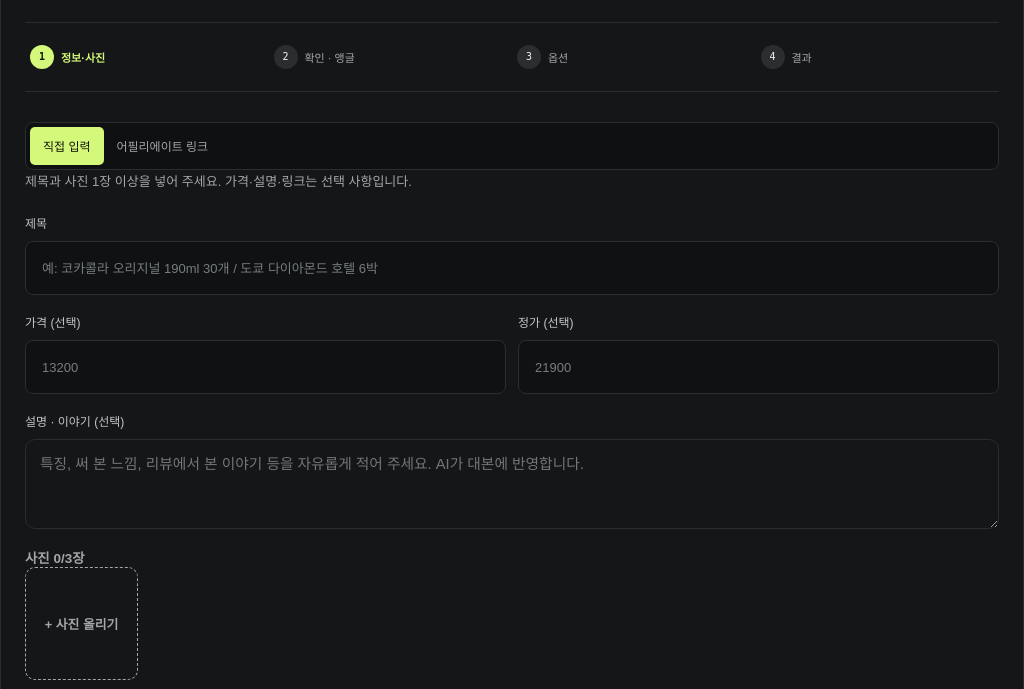
Test: AffiliateInput manual mode › asks for a title and a picture before saving
The width and height of the screenshot is (1024, 689).
Type "사진 없는 글" into the field labelled "제목". click: [512, 268]
box: [25,241,999,295]
(page scrolled)
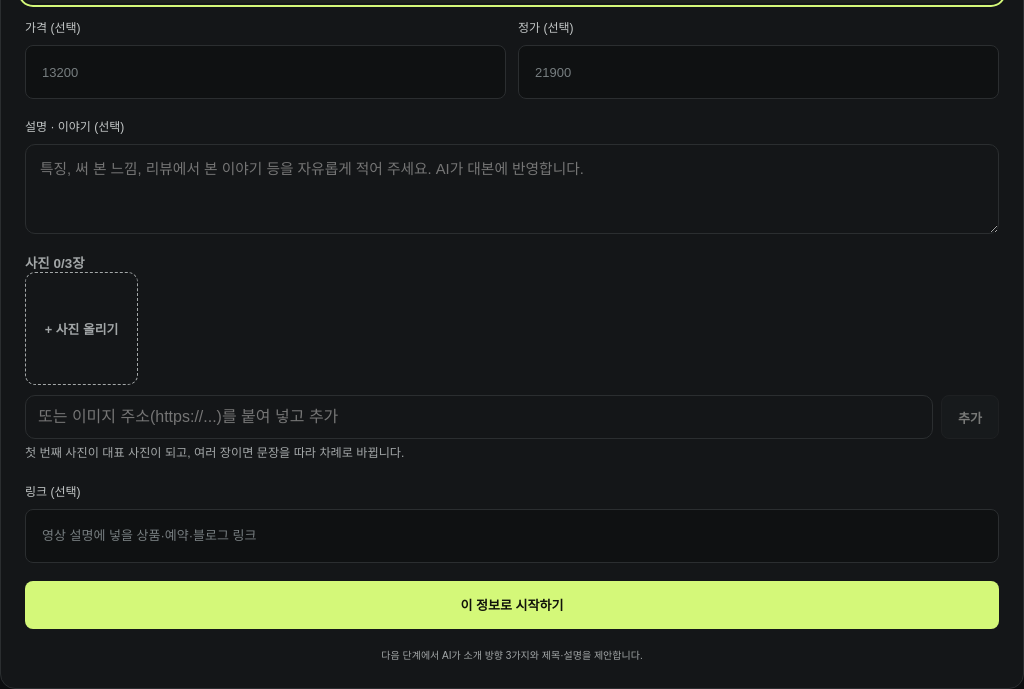
Click the button "이 정보로 시작하기". click: [512, 605]
box: [25,581,999,629]
(page scrolled)
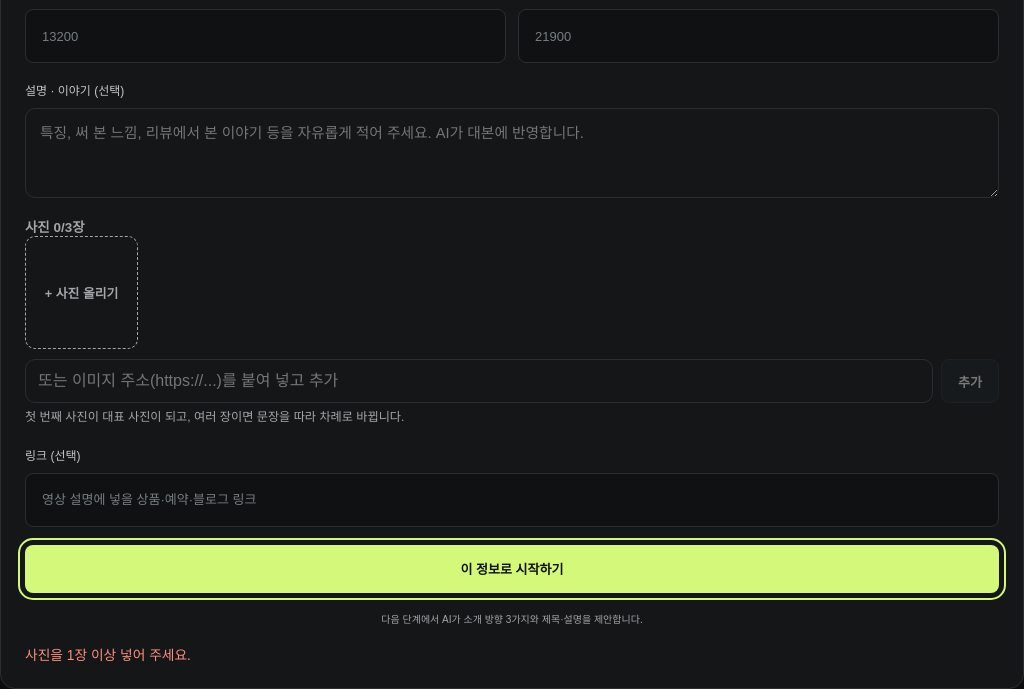
Result: the message shows "사진을 1장 이상" at [25,648,191,663]
